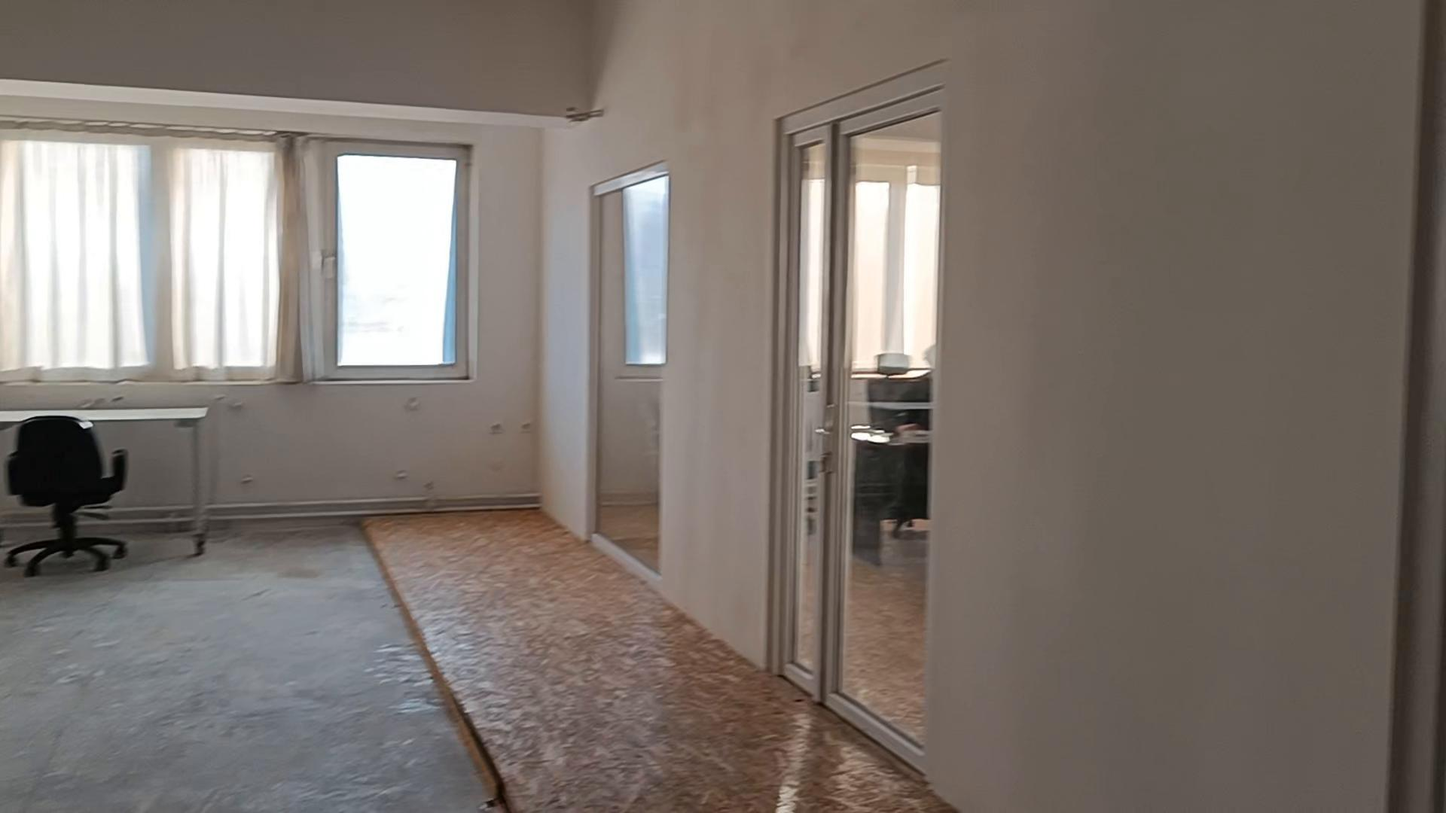floor: (0, 510, 952, 812)
wall: (536, 15, 1415, 812), (0, 4, 590, 493)
